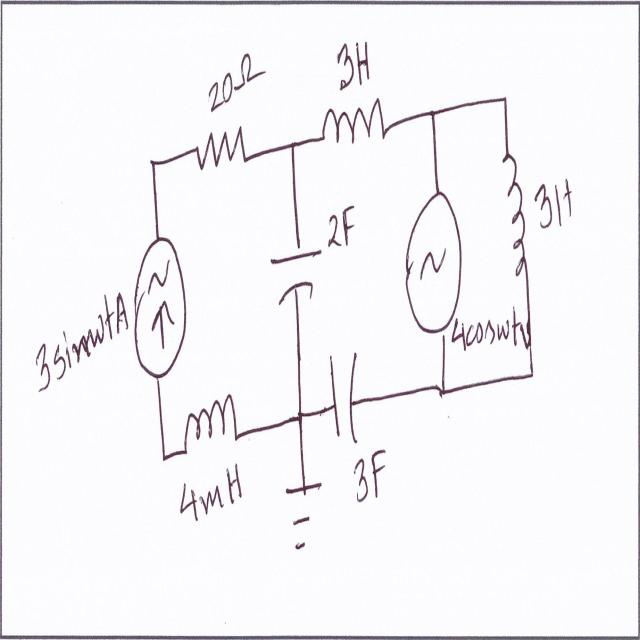ac_current: (402, 179, 465, 331)
capacitor: (269, 242, 321, 316), (326, 345, 361, 449)
current_source: (130, 234, 193, 384)
ground: (283, 475, 325, 562)
inductor: (320, 92, 390, 160), (499, 147, 533, 286), (181, 389, 240, 463)
resistor: (194, 119, 250, 182)
